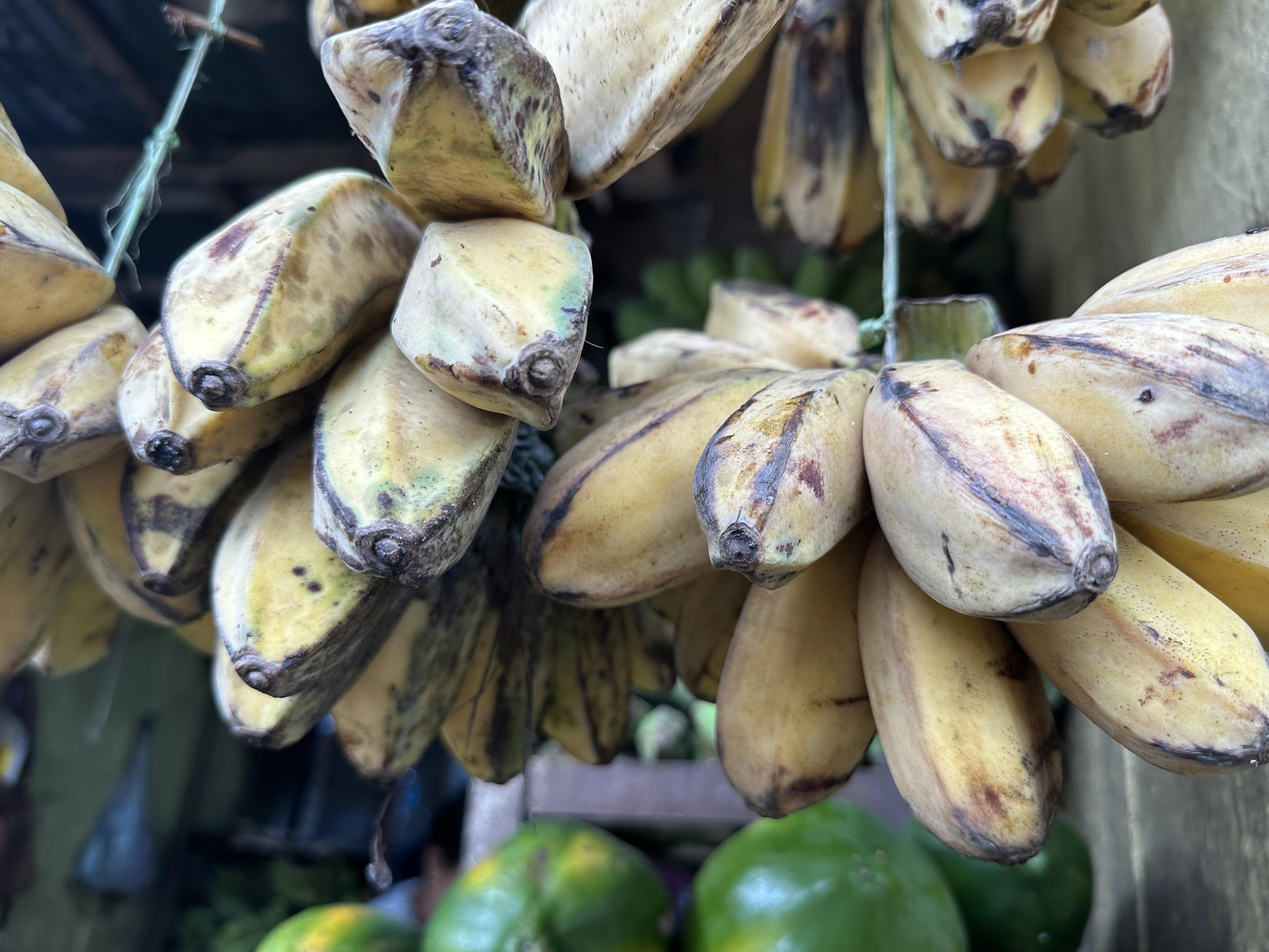ripe: (526, 231, 1269, 865), (0, 94, 206, 683)
underripe: (119, 0, 674, 780), (753, 0, 1172, 251)
